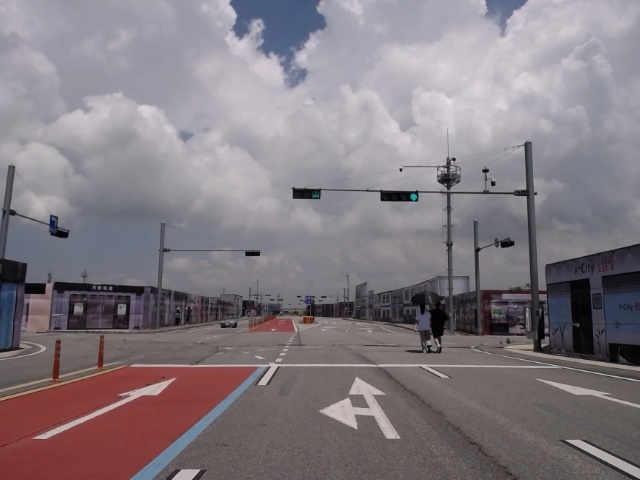straight_green_4: (382, 191, 419, 203)
